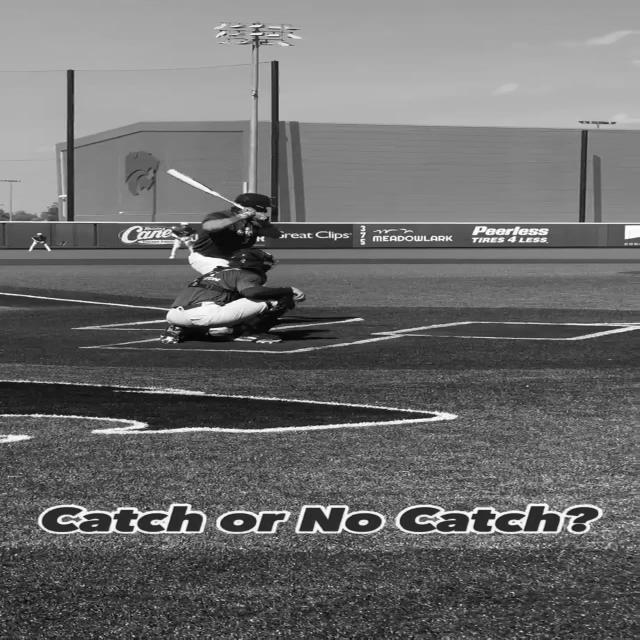bat: (165, 168, 256, 218)
shoe: (233, 331, 283, 344), (159, 324, 187, 344), (206, 326, 236, 338)
